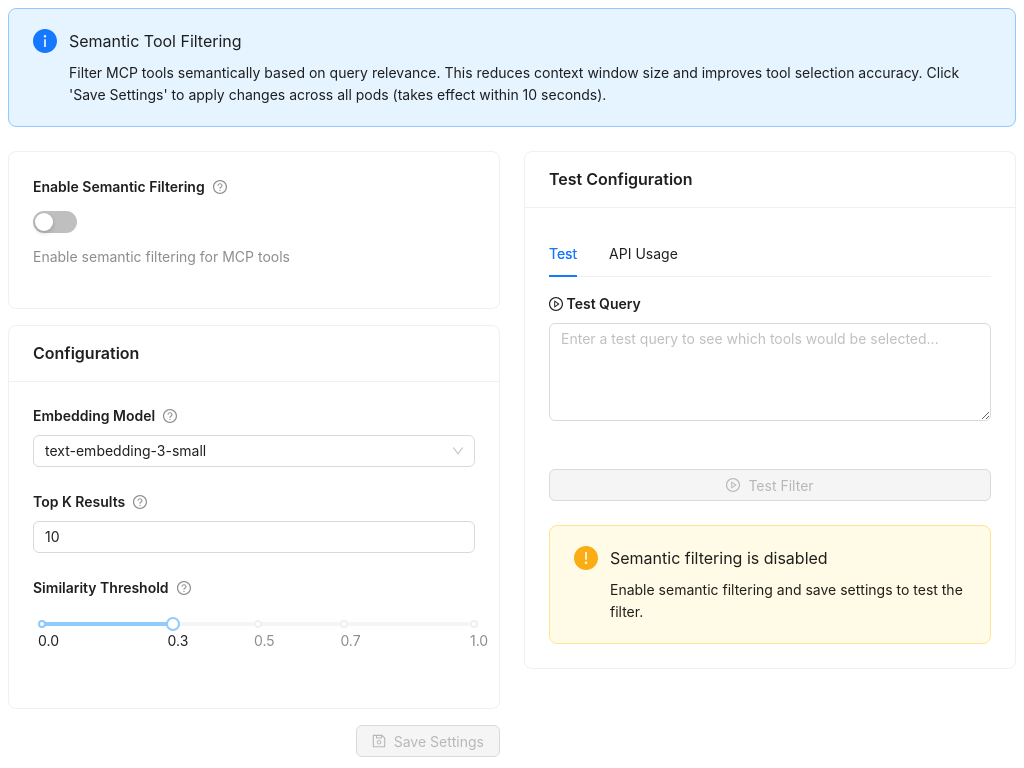
Test case: MCPSemanticFilterSettings › should enable Save Settings button after a form field is changed
The image size is (1024, 768).
Expected: the button "Save Settings" is disabled, [356,725,500,757]
Click the switch at (55, 222), box [33,211,77,233]
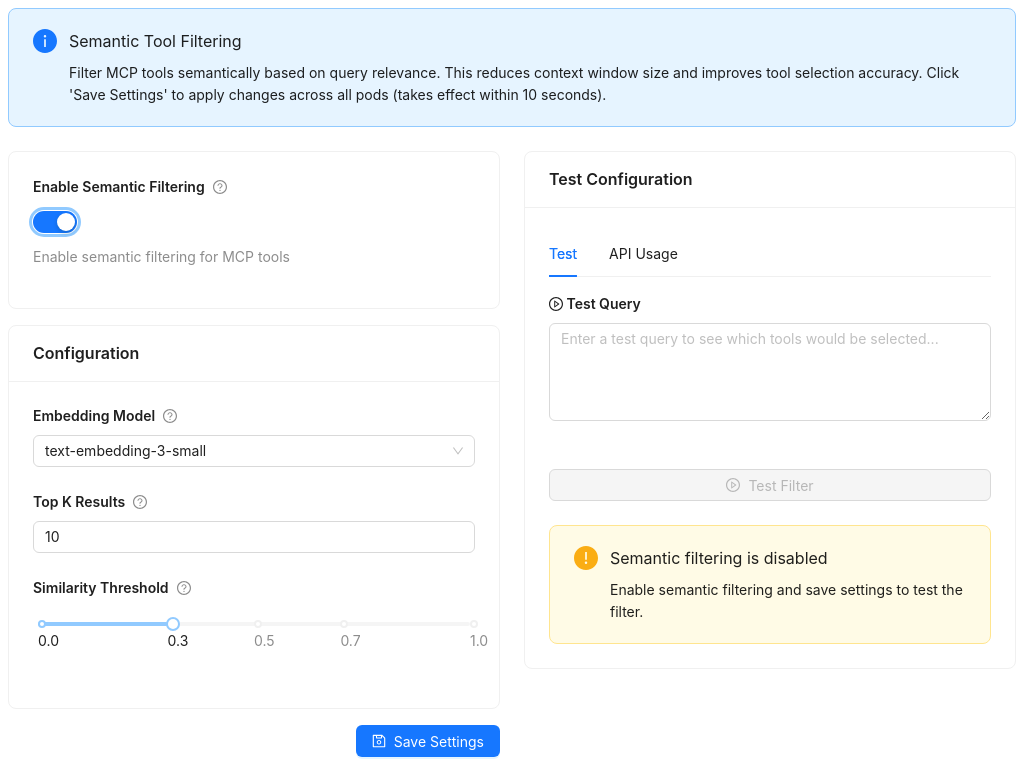
Now the button "Save Settings" is enabled, box [356,725,500,757]
